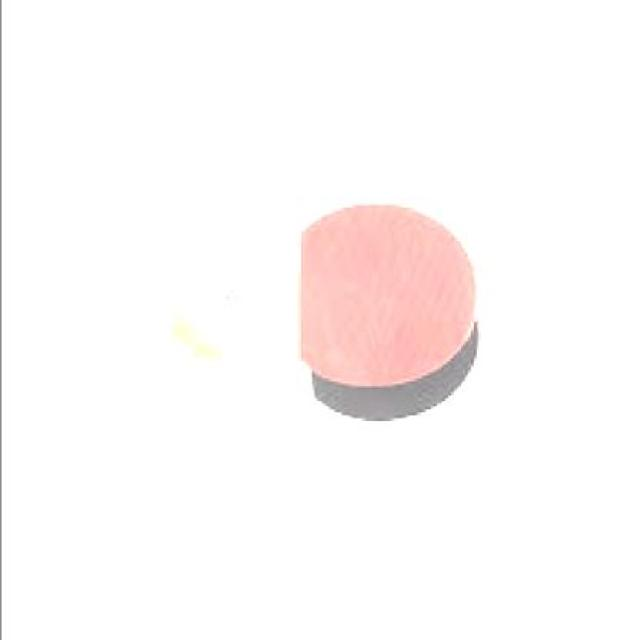table_tennis_racket: (273, 188, 479, 382), (272, 311, 503, 446)
